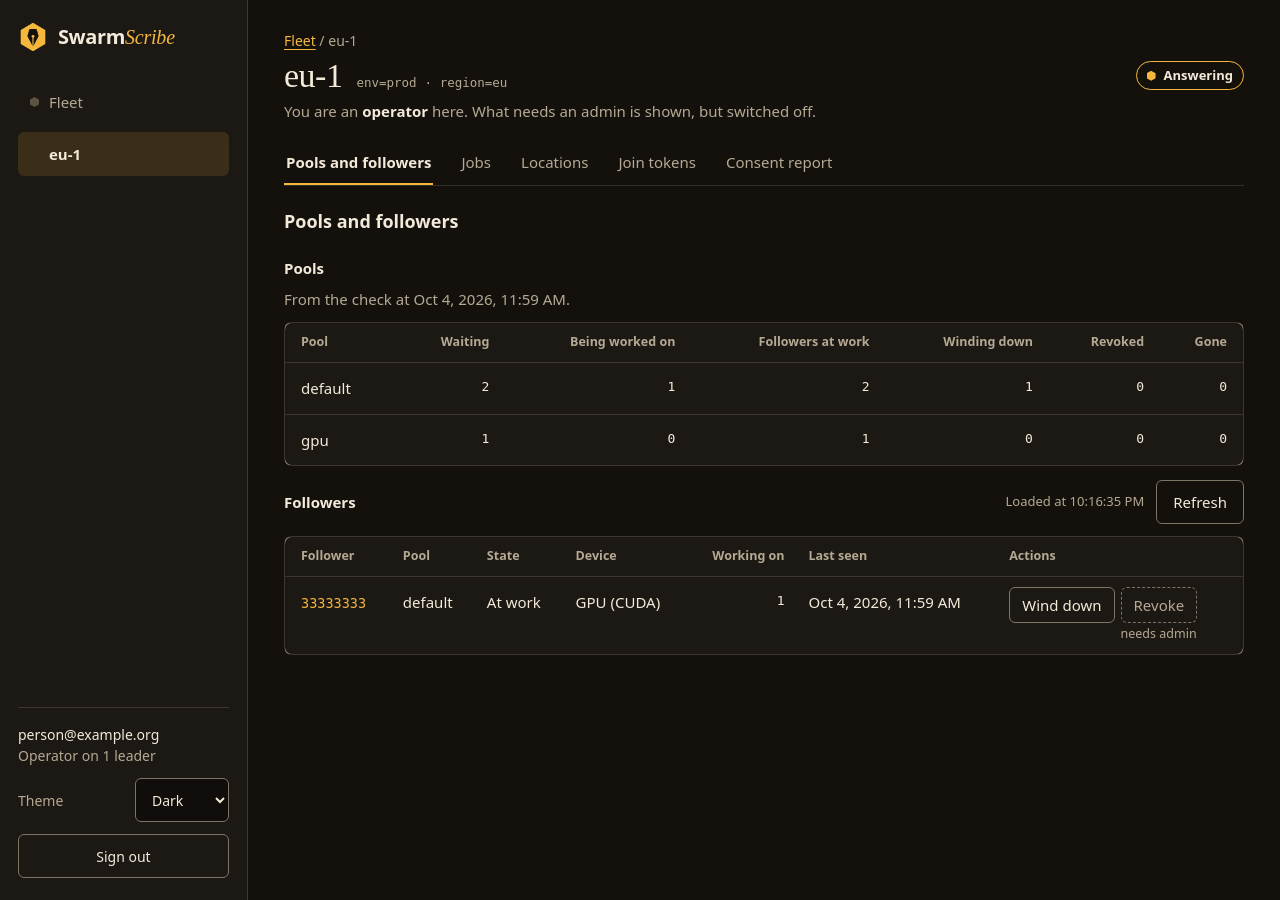
Test: pools and followers tab › shows pools from the latest poll and drains a follower
The image size is (1280, 900).
Expected: the column heading "gpu" is shown, [285,414,397,465]
Click the button with aria-label "Wind down follower 33333333" at (1062, 605), box [1009,587,1114,623]
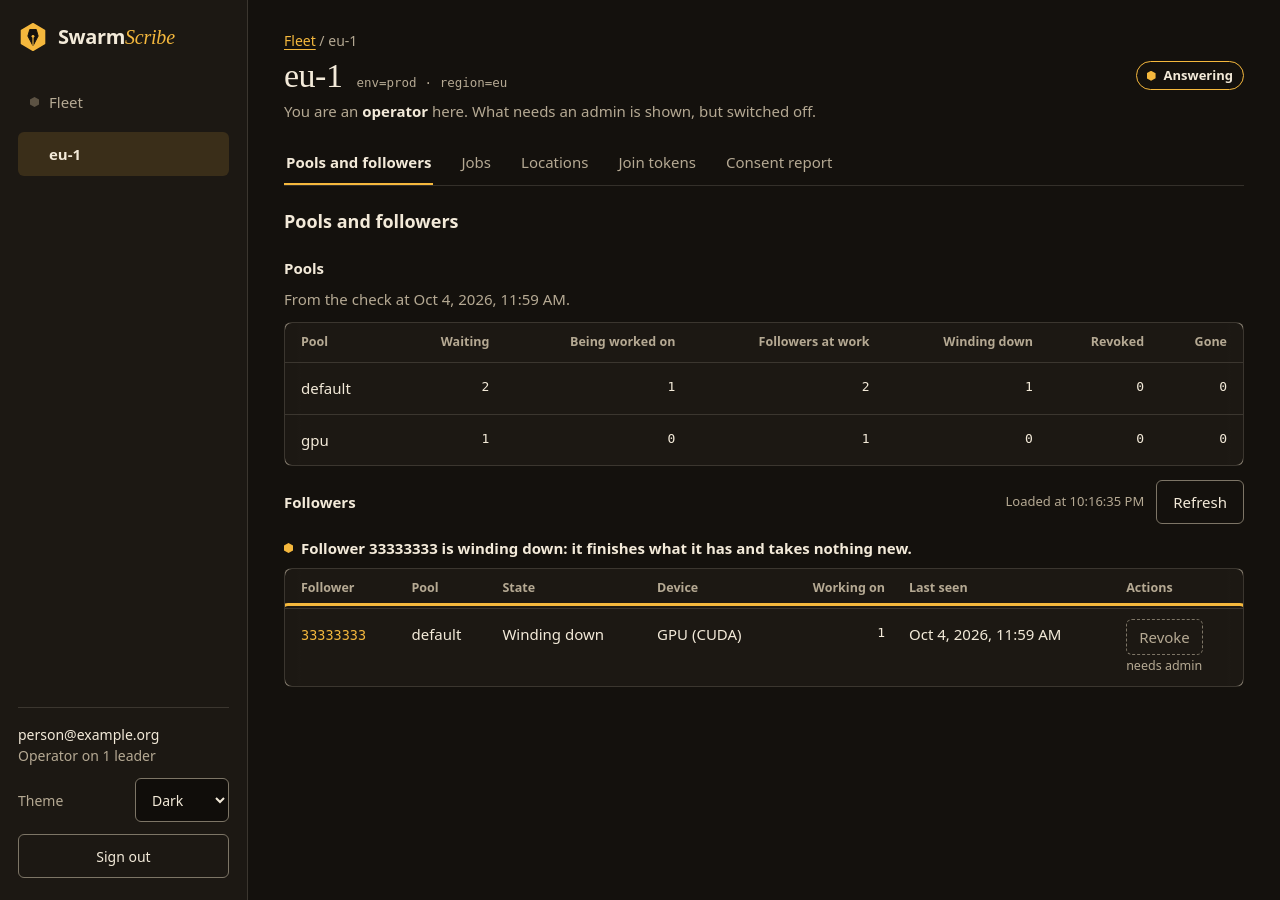
Now the text "Follower 33333333 is winding down: it finishes what it has and takes nothing new." is shown, box [301,538,912,558]
